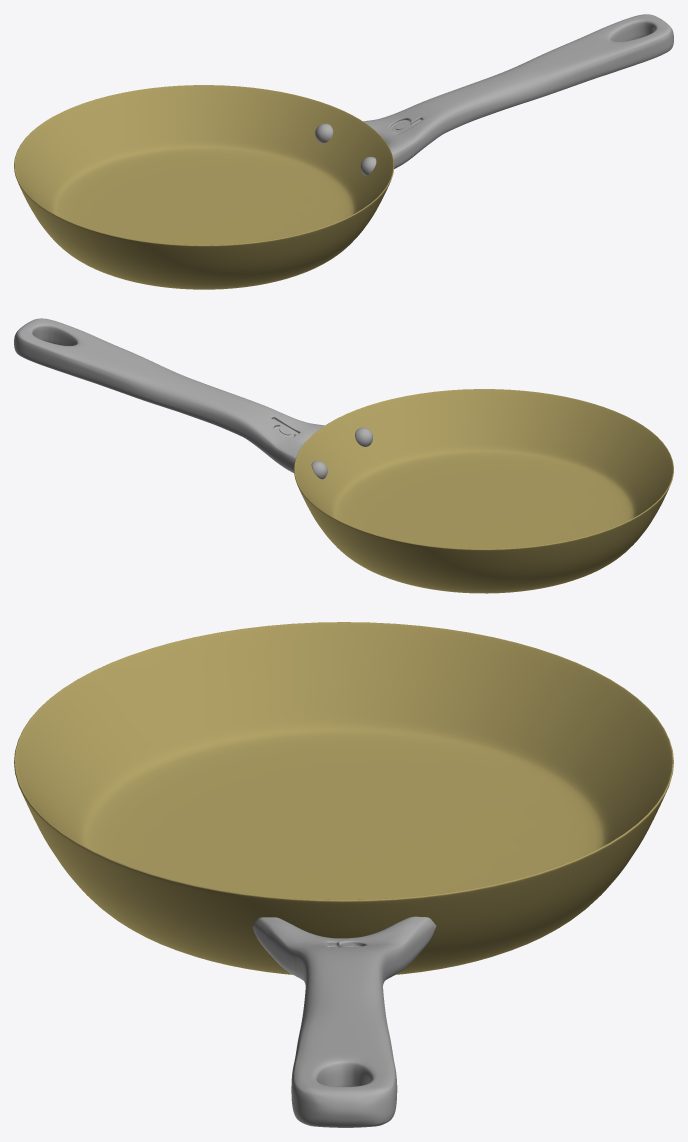
Rendered from 8inch_fry_biscuit.glb.
3 views of the same model, one above another, from view 1: azimuth 30°, elevation 25°; view 2: azimuth 150°, elevation 25°; view 3: azimuth 270°, elevation 25° (orthographic). The views are drawn at different scales.
Visible parts, largest first — view 1: pan_body_geo, handle_geo; view 2: pan_body_geo, handle_geo; view 3: pan_body_geo, handle_geo.
Part boxes in pixels (bbox=[...]): pan_body_geo: bbox=[14, 85, 394, 289]; handle_geo: bbox=[363, 14, 673, 168]; pan_body_geo: bbox=[294, 389, 673, 593]; handle_geo: bbox=[14, 318, 324, 472]; pan_body_geo: bbox=[14, 622, 673, 974]; handle_geo: bbox=[252, 916, 436, 1127].
Bounding box in the file's own units: 0.4054 × 0.0623 × 0.2123.
